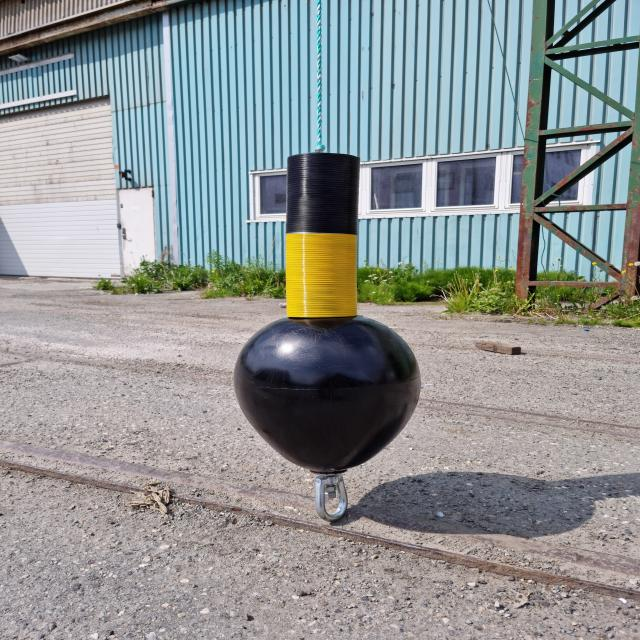east: (232, 153, 420, 473)
